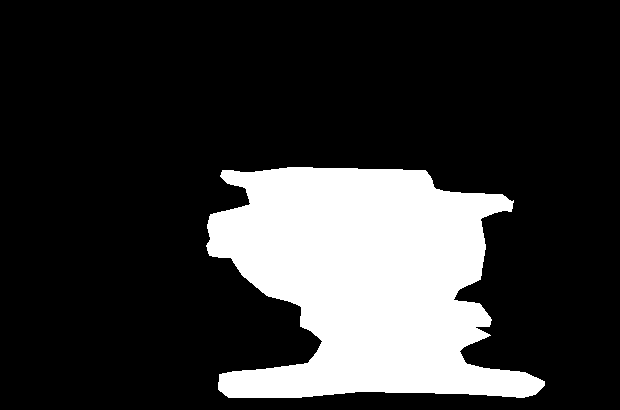type4: (206, 165, 550, 400)
